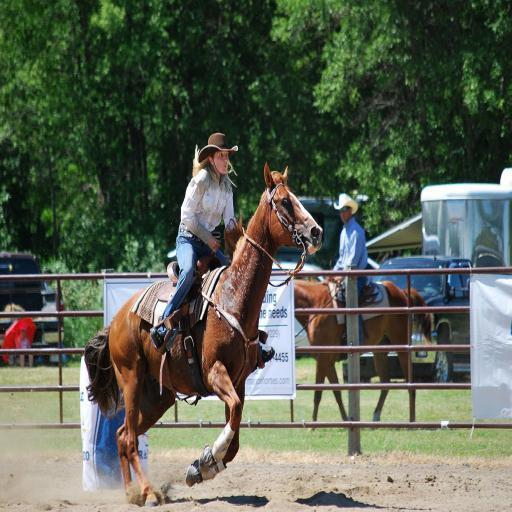horse: (84, 159, 325, 509), (294, 280, 434, 430)
